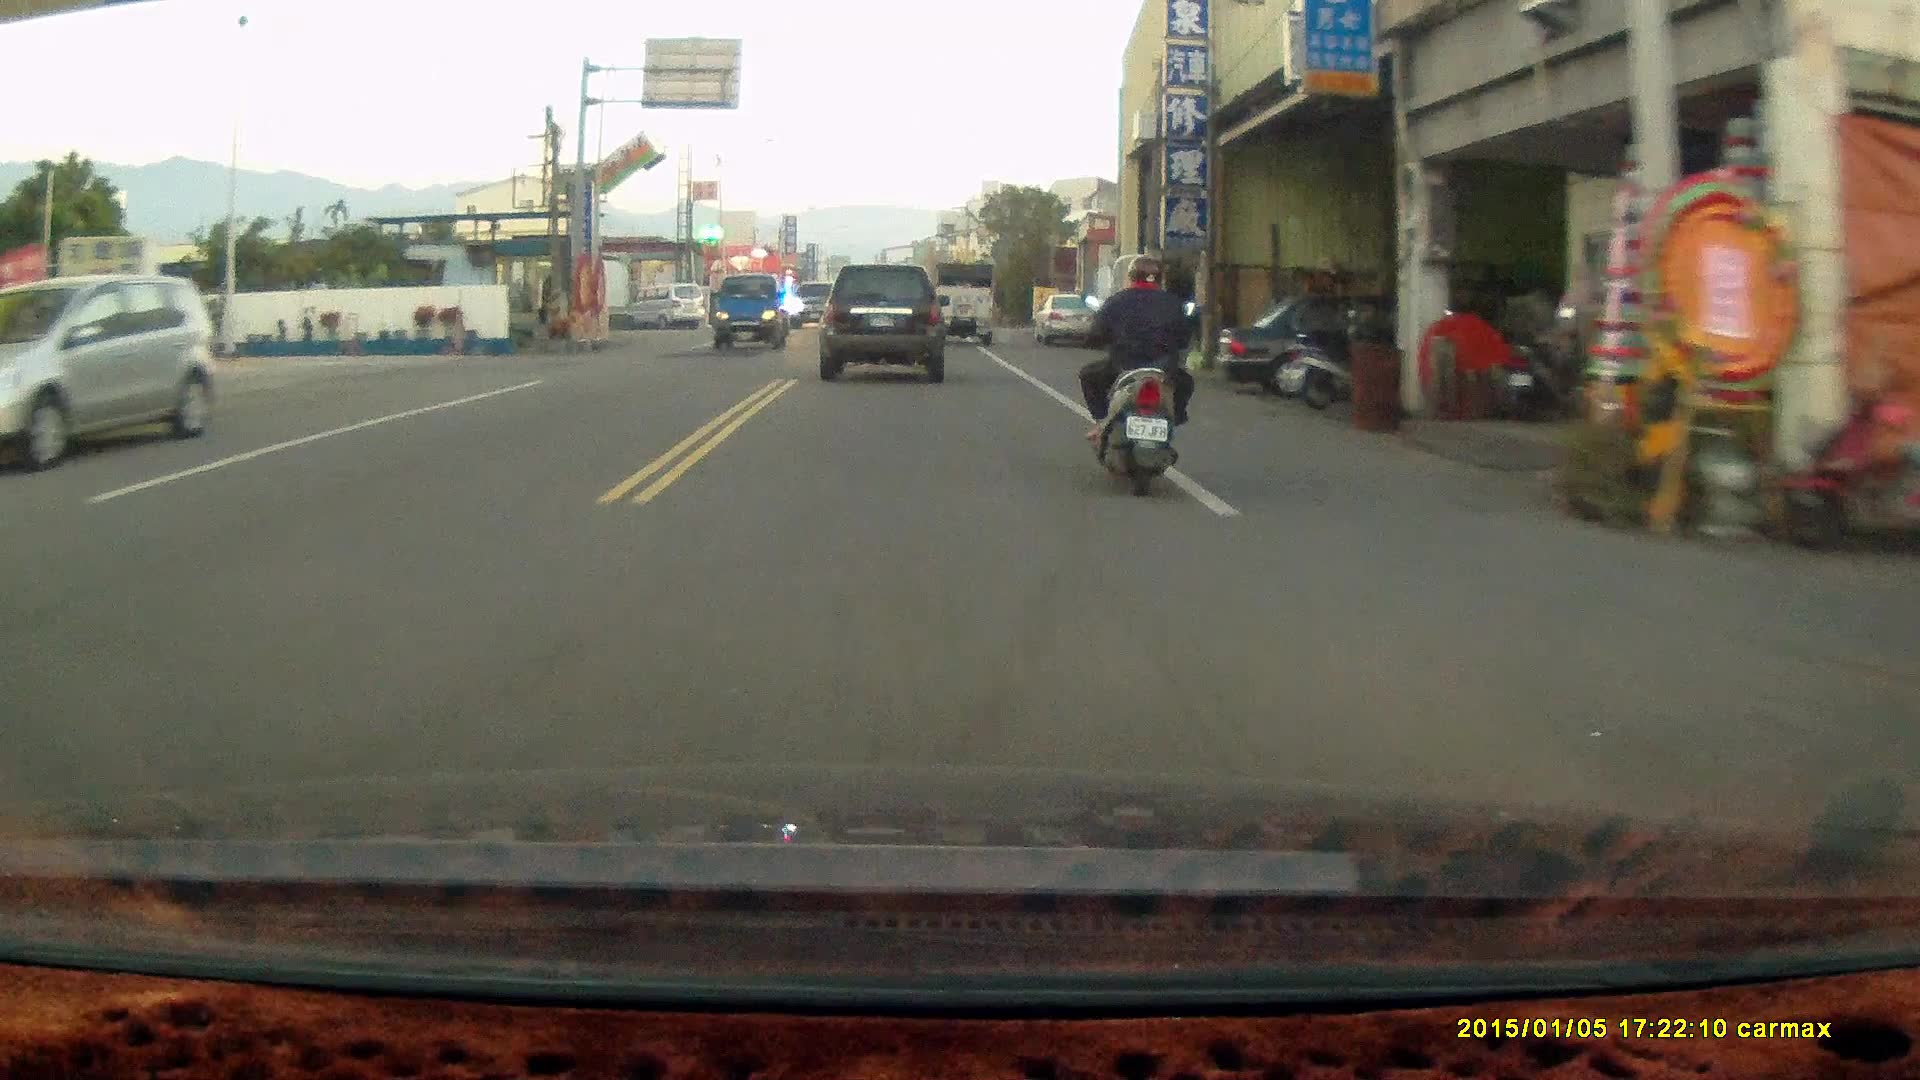rider: (1081, 248, 1197, 492)
vehicle: (1, 270, 220, 474), (1210, 287, 1475, 400), (820, 263, 947, 380), (715, 269, 799, 349), (927, 260, 998, 344), (625, 282, 710, 331), (1033, 293, 1096, 343)
